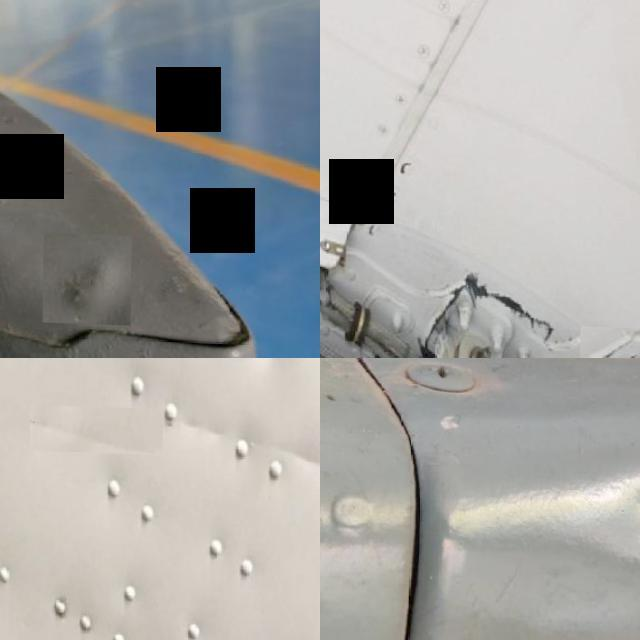Crack: (424, 270, 559, 358), (585, 325, 640, 358)
Dent: (180, 408, 320, 467), (44, 230, 132, 322), (587, 454, 640, 587), (31, 403, 162, 451)
